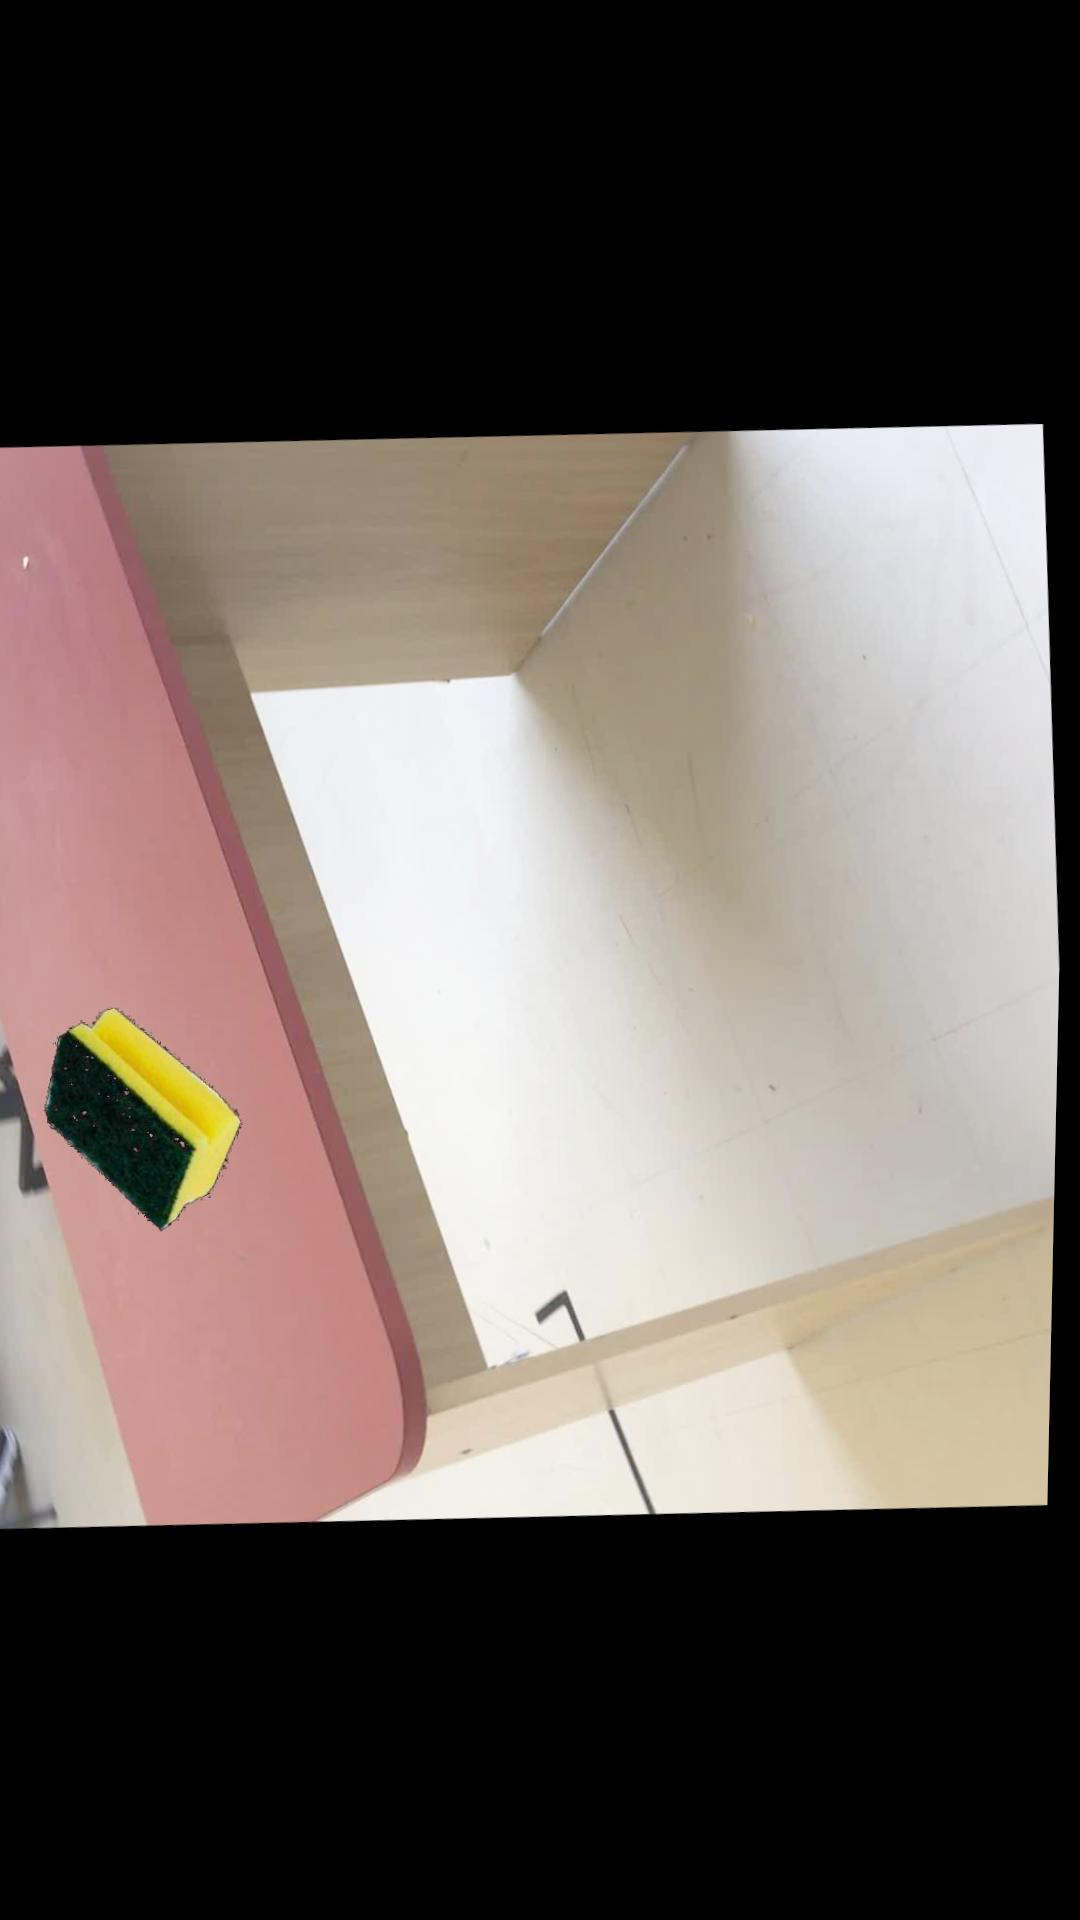sponge: (46, 1007, 245, 1230)
